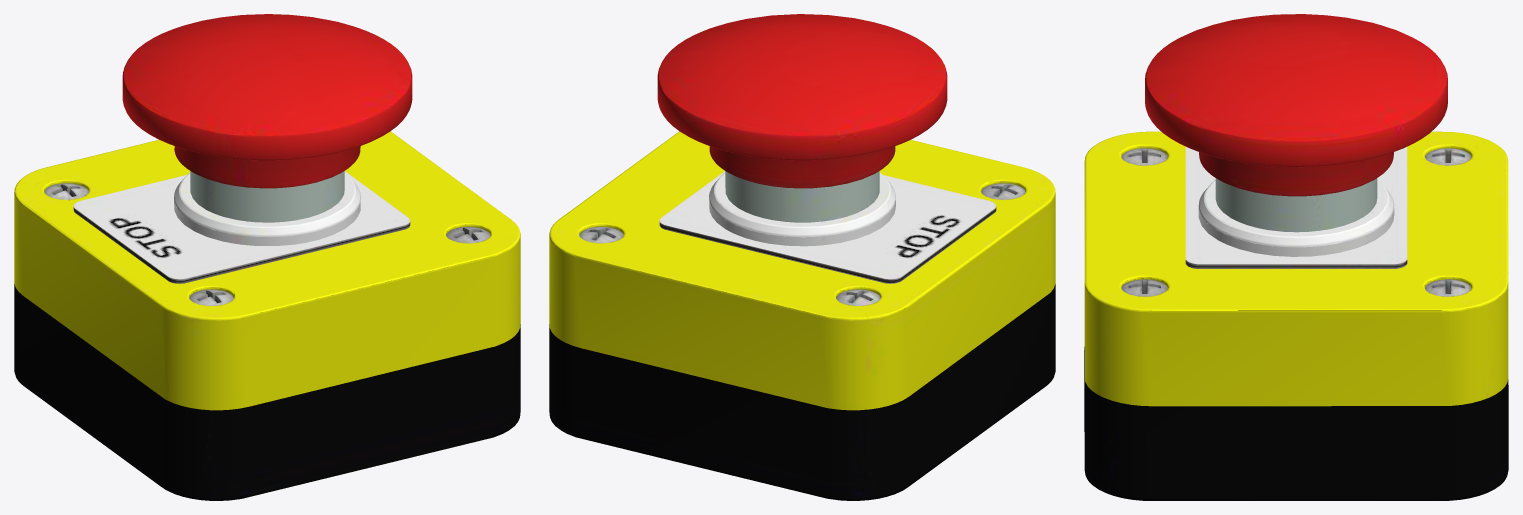
The model's file is boton_rojo.glb.
3 renders of one model, left to right at view 1: azimuth 30°, elevation 25°; view 2: azimuth 150°, elevation 25°; view 3: azimuth 270°, elevation 25°, orthographic. The views are drawn at different scales.
Visible parts, largest first — view 1: boton_rojo; view 2: boton_rojo; view 3: boton_rojo.
Part boxes in pixels (<box>): boton_rojo: <box>14,14,520,500</box>; boton_rojo: <box>549,14,1055,500</box>; boton_rojo: <box>1084,14,1508,500</box>.
Size of the model in its own units: 0.15 by 0.139 by 0.15.
Materials: 1 (1 with a texture image).
